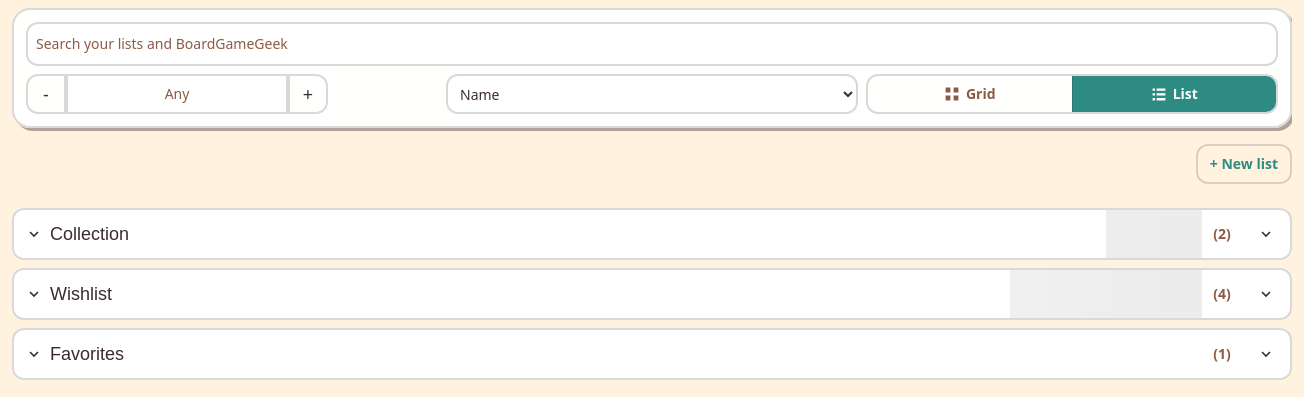
PersonalCollection lists › filters all collapsed previews and hides empty lists as text and player count change
Expected: the button with aria-label "Collection (2)" is shown, [14, 210, 1202, 258]
Expected: the number of fields named "Player count value" is 1, [66, 74, 288, 114]
Type "aZuL" into the field labelled "Search your lists and BoardGameGeek" at [652, 44], box [26, 22, 1278, 66]
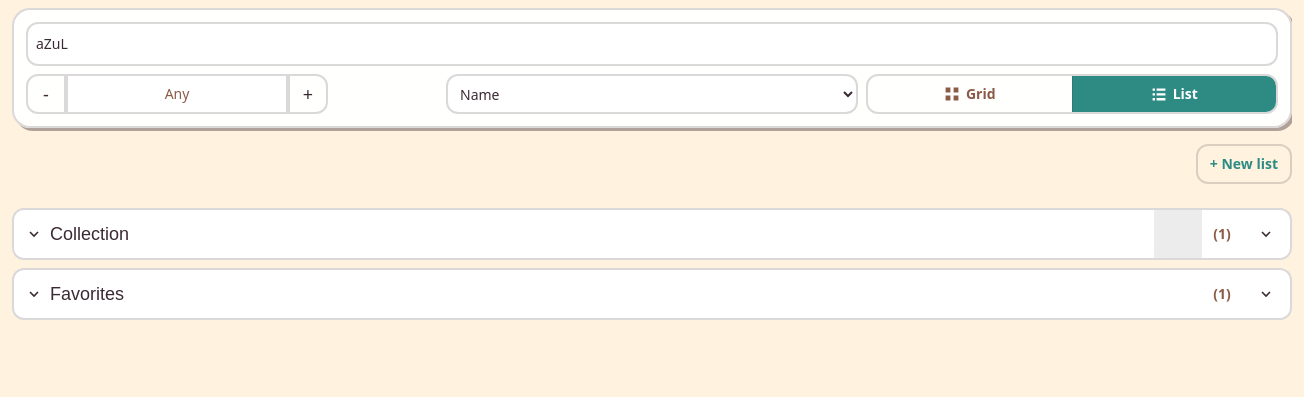
Expected: the button with aria-label "Collection (1)" is shown, [14, 210, 1202, 258]
Expected: the button with aria-label "Favorites (1)" is shown, [14, 270, 1202, 318]
Type "5" into the field named "Player count value" at [177, 94], box [66, 74, 288, 114]
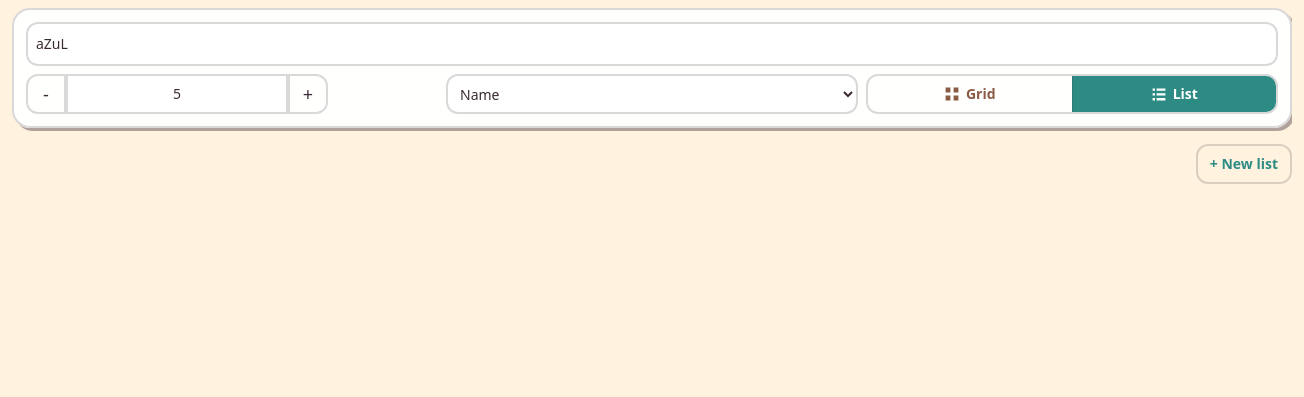
Expected: the button "Collection (1)" is gone
Clear the field named "Search your lists and BoardGameGeek" at [652, 44], box [26, 22, 1278, 66]
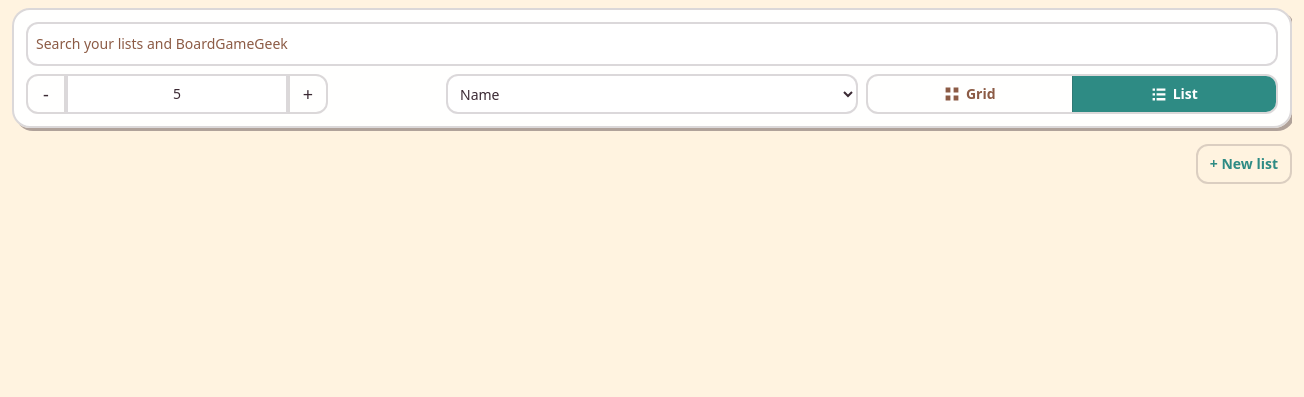
Replace the text in the field named "Player count value" with "1" at [177, 94], box [66, 74, 288, 114]
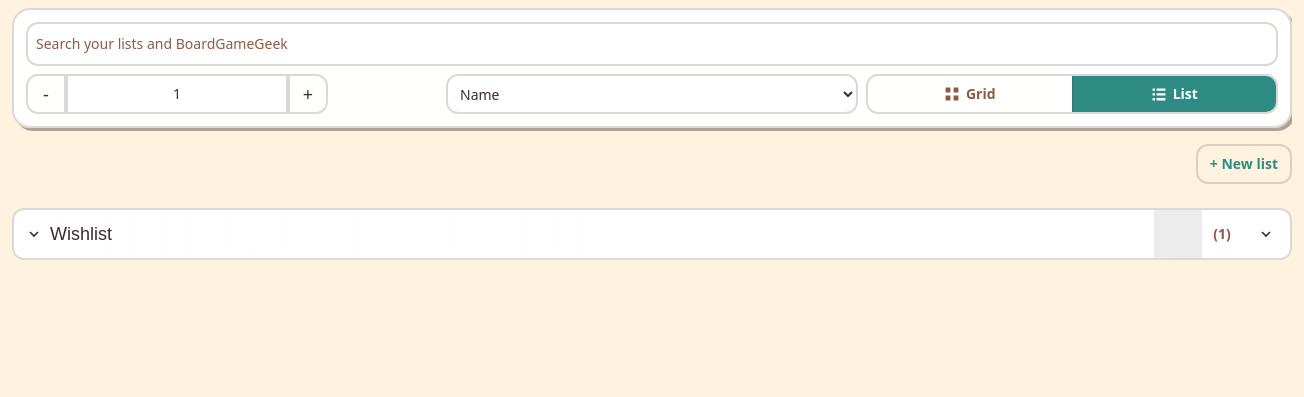
Expected: the button "Collection (2)" is not shown
Expected: the button with aria-label "Wishlist (1)" is shown, [14, 210, 1202, 258]
Clear the field named "Player count value" at [177, 94], box [66, 74, 288, 114]
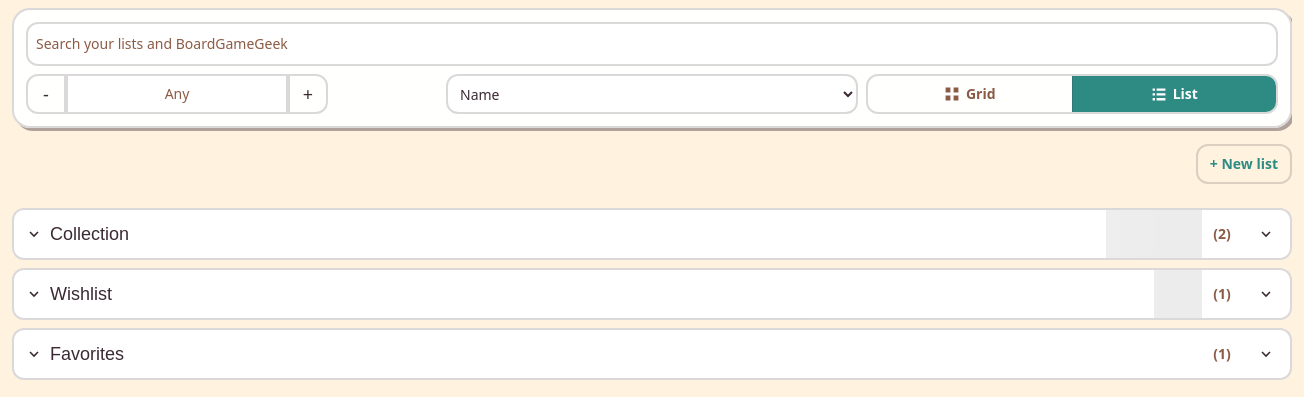
Expected: the button with aria-label "Collection (2)" is shown, [14, 210, 1202, 258]
